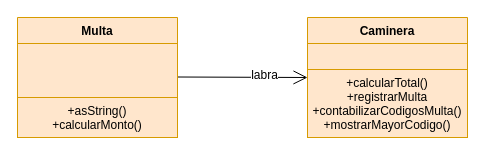
The diagram is 485 pixels wide and 158 high, and some of its shapes have lost their labels. The shapes that lost their labels are listed below. From the top down, each one's box as (x1, y1, x2, y2) in pixels, then its label:
(16, 42, 178, 98): -codigo -monto -acta
(306, 42, 468, 70): -multas
